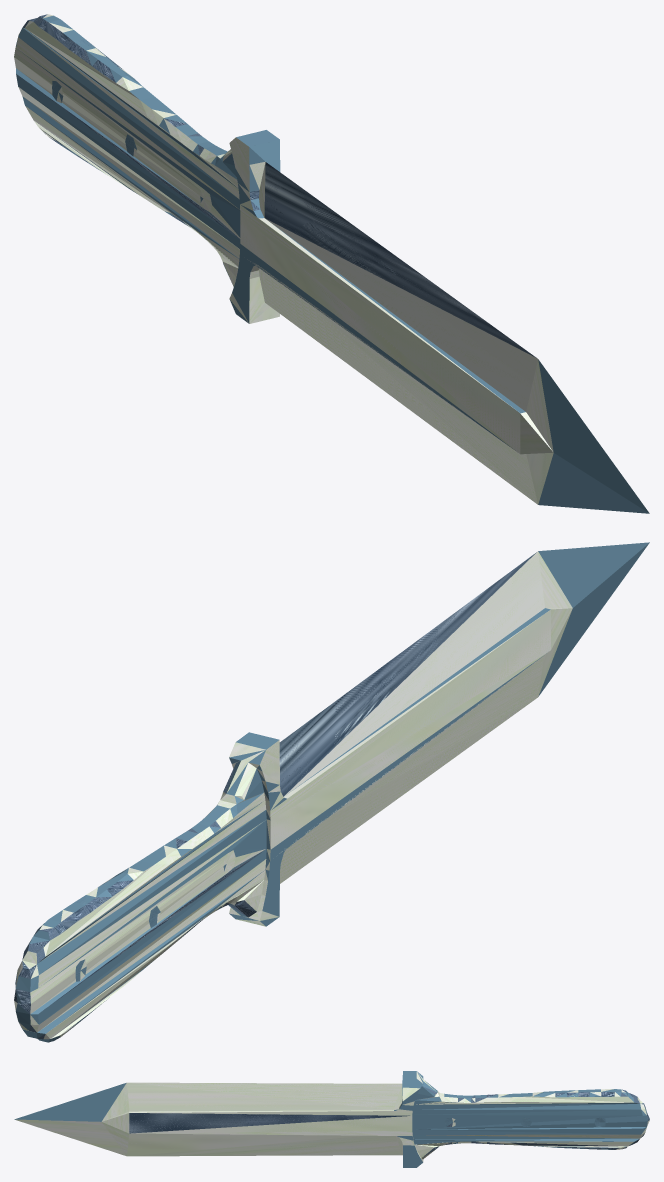
The model's file is model_align.obj.
3 renders of one model, top to bottom at view 1: azimuth 30°, elevation 25°; view 2: azimuth 150°, elevation 25°; view 3: azimuth 270°, elevation 25°, orthographic. The views are drawn at different scales.
Bounding box in the file's own units: 0.00641 × 0.0354 × 0.228.
Materials: 4 (4 with a texture image).
